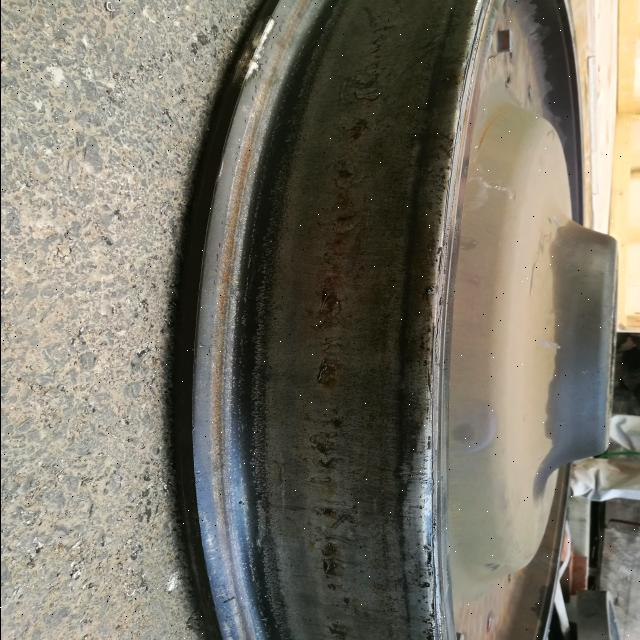boli: (307, 422, 343, 474), (309, 281, 342, 331), (311, 354, 343, 394)
